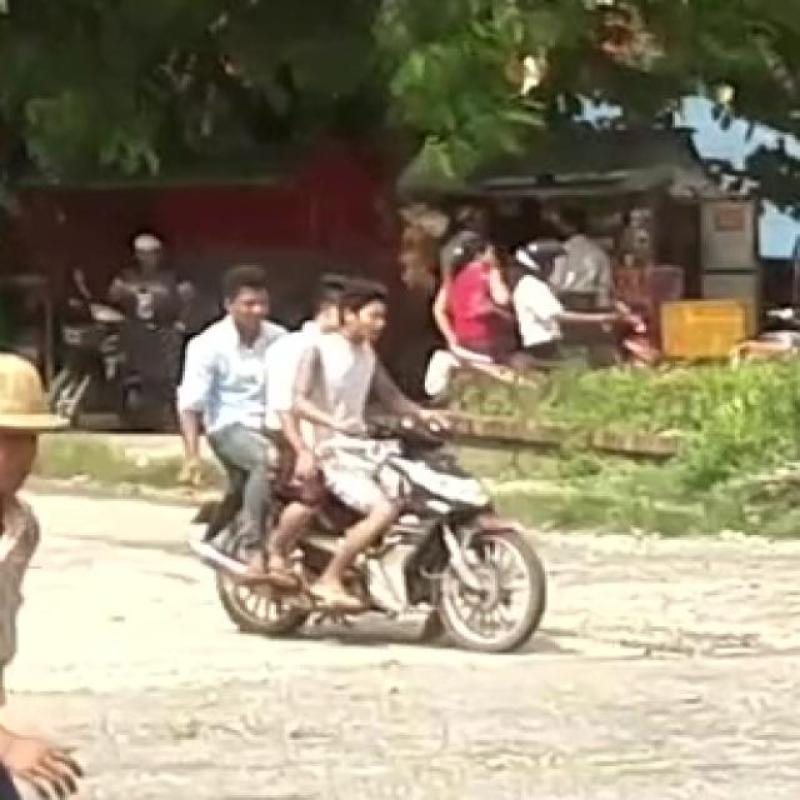nohelmet: (211, 260, 290, 339), (337, 279, 412, 347)
